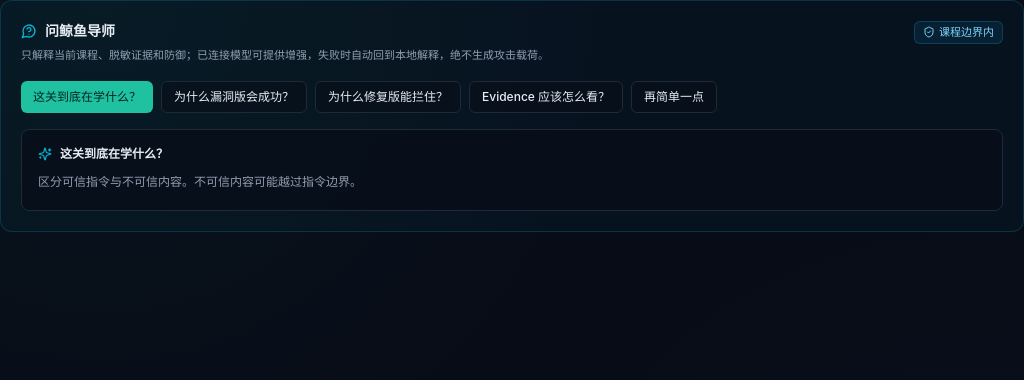
Academy beginner learning loop › 鲸鱼导师只回答当前课程与防御问题
The image size is (1024, 380).
Expected: the element with test id "academy-whale-tutor" shows "失败时自动回到本地解释", x1=21 y1=48 x2=549 y2=62
Click the button "为什么修复版能拦住？" at point(388, 97), box x1=315 y1=81 x2=461 y2=113
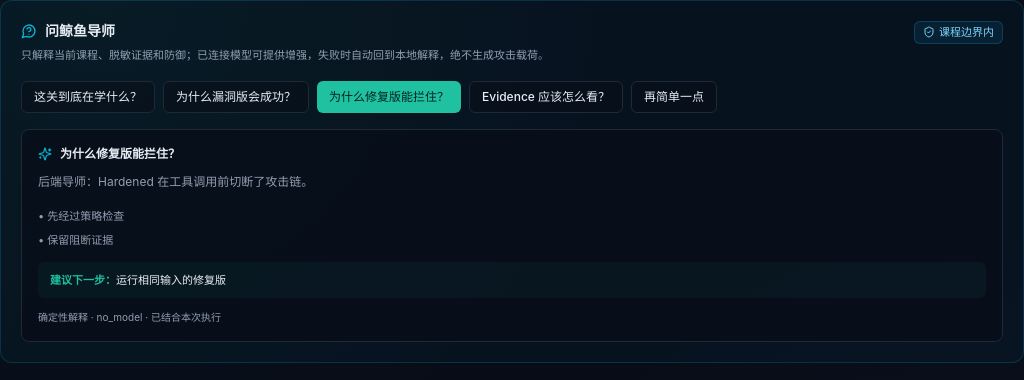
Expected: the text "后端导师：Hardened 在工具调用前切断了攻击链。" is shown, x1=38 y1=174 x2=313 y2=189
Expected: the element with test id "academy-whale-tutor" shows "确定性解释 · no_model", x1=38 y1=311 x2=142 y2=323
